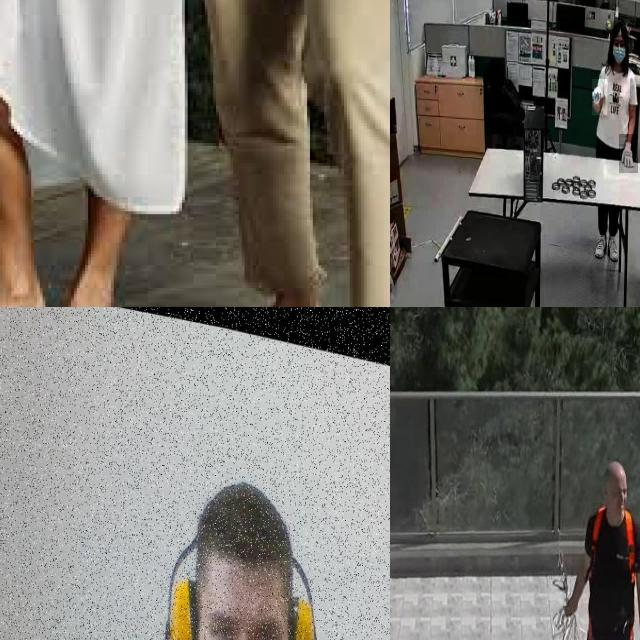Ear-protection: (158, 555, 213, 640)
Harness: (591, 508, 638, 592)
face_mask: (619, 134, 639, 174), (592, 79, 608, 115), (612, 39, 626, 67)
glasses: (592, 229, 607, 259), (608, 230, 618, 264)
head_nohelmet: (610, 21, 628, 38)
person: (590, 14, 640, 267)
